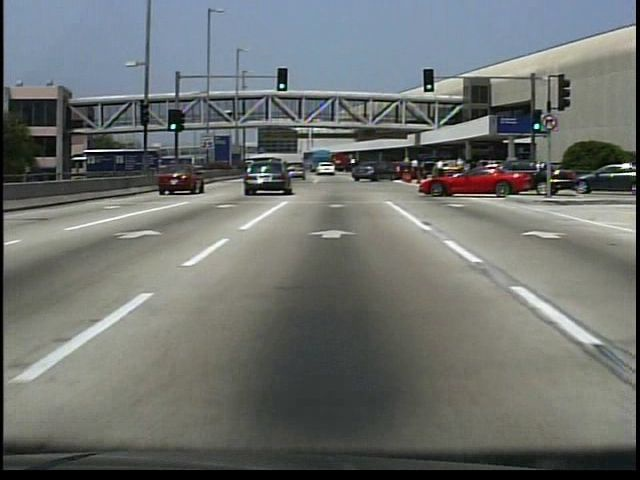person: (410, 158, 422, 183), (435, 159, 445, 180), (227, 109, 234, 124)
